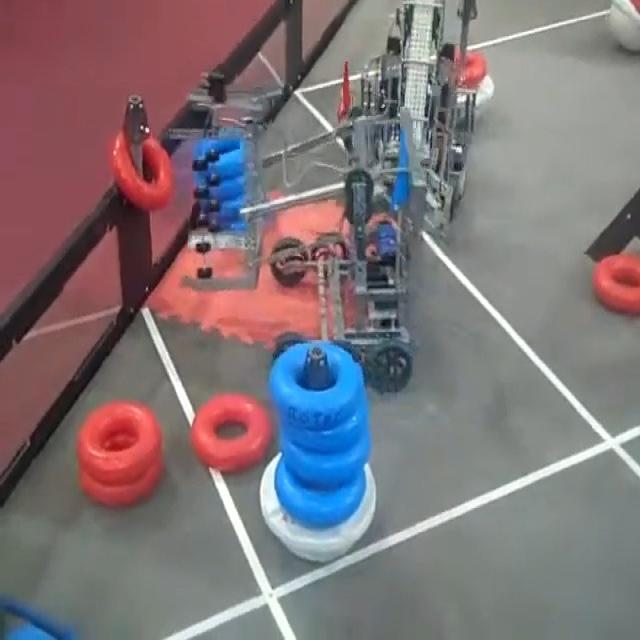Blue-Ring: (268, 341, 362, 428), (274, 462, 365, 532), (281, 429, 370, 493), (283, 412, 369, 457)
Red-Ring: (75, 401, 160, 485), (190, 394, 270, 474), (111, 125, 172, 209), (75, 457, 160, 510), (595, 252, 640, 312), (456, 49, 489, 90)
